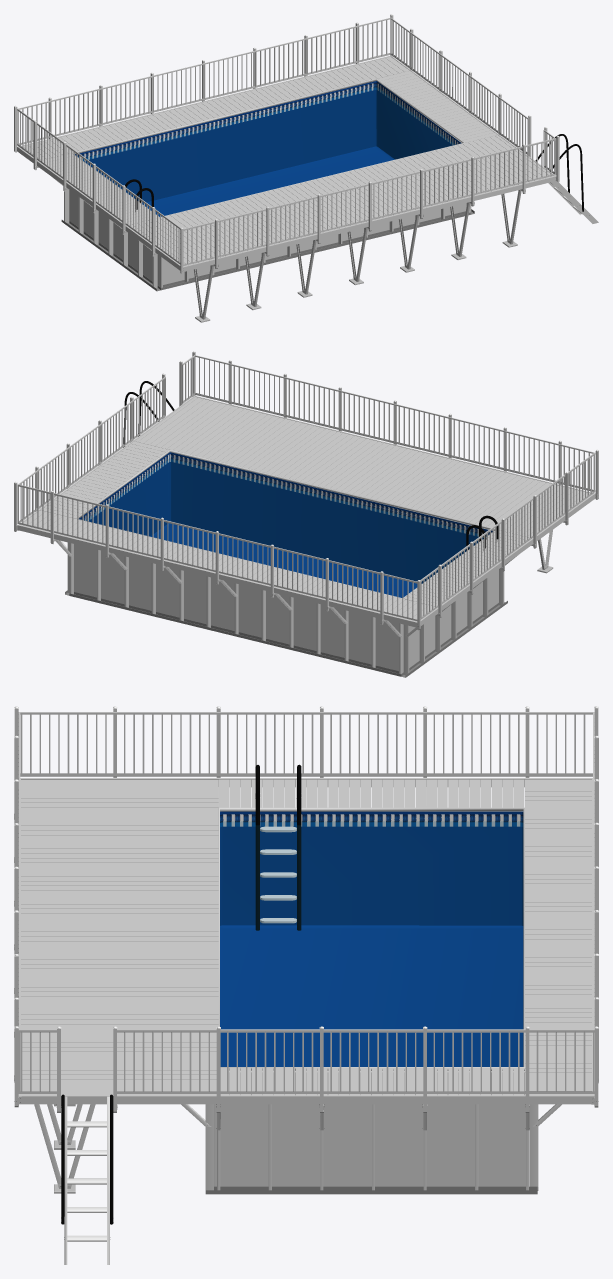
The model's file is KayakPool_004.FBX.
3 renders of one model, top to bottom at view 1: azimuth 30°, elevation 25°; view 2: azimuth 150°, elevation 25°; view 3: azimuth 270°, elevation 25°, orthographic. The views are drawn at different scales.
Visible parts, largest first — view 1: Box2283; view 2: Box2283; view 3: Box2283.
Boxes of the visible parts, left/top/right/bottom form: Box2283: left=14, top=14, right=598, bottom=322; Box2283: left=14, top=351, right=598, bottom=677; Box2283: left=14, top=706, right=598, bottom=1264.
Size of the model in its own units: 1037 by 253 by 697.
